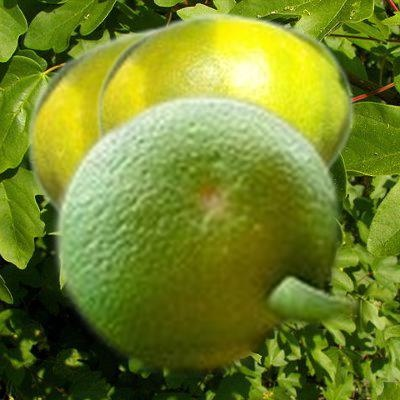dalandan: (49, 86, 363, 376), (95, 11, 353, 165), (26, 26, 155, 208)
